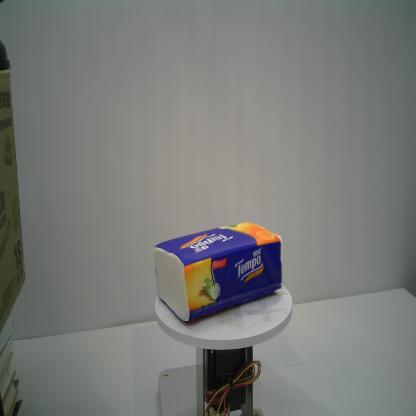Tissue: (154, 222, 284, 323)
